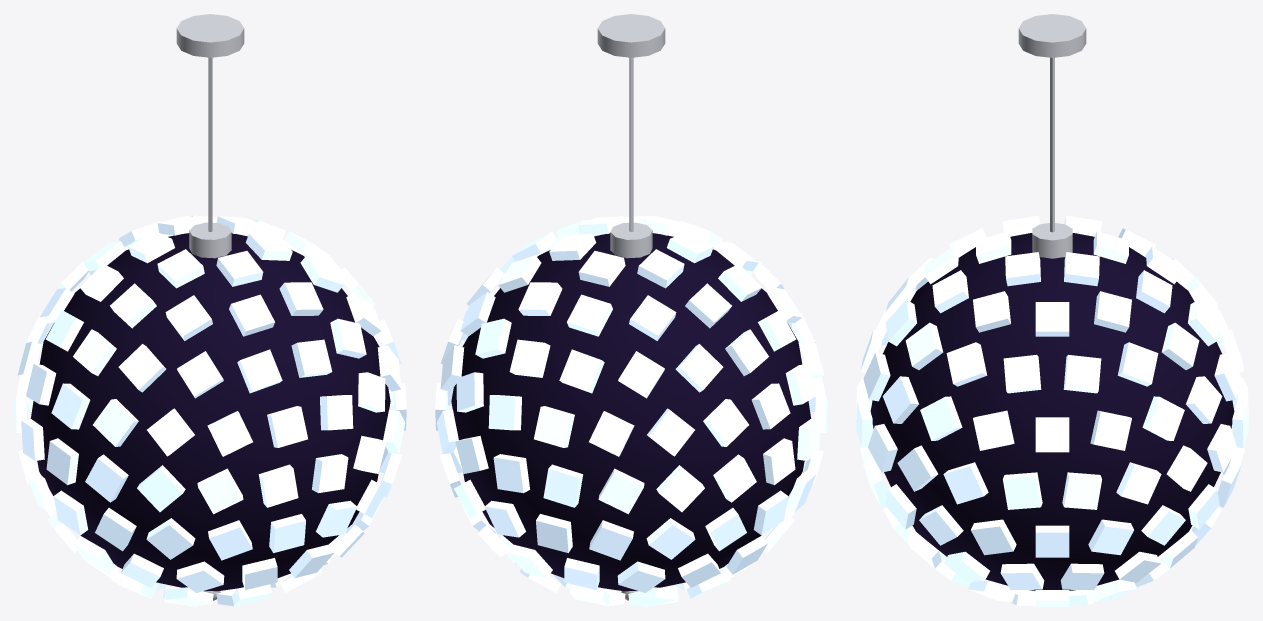
File: disco_ball_mirrored.glb
3 views of the same model, side by side, from view 1: azimuth 30°, elevation 25°; view 2: azimuth 150°, elevation 25°; view 3: azimuth 270°, elevation 25° (orthographic).
Visible parts, largest first — view 1: disco_ball_mirrored; view 2: disco_ball_mirrored; view 3: disco_ball_mirrored.
Part boxes in pixels (box(x1,y1,x2,y2)): disco_ball_mirrored: box(14, 14, 406, 606); disco_ball_mirrored: box(435, 14, 827, 606); disco_ball_mirrored: box(856, 14, 1248, 606).
Size of the model in its own units: 0.9279 by 1.5 by 0.9279.
